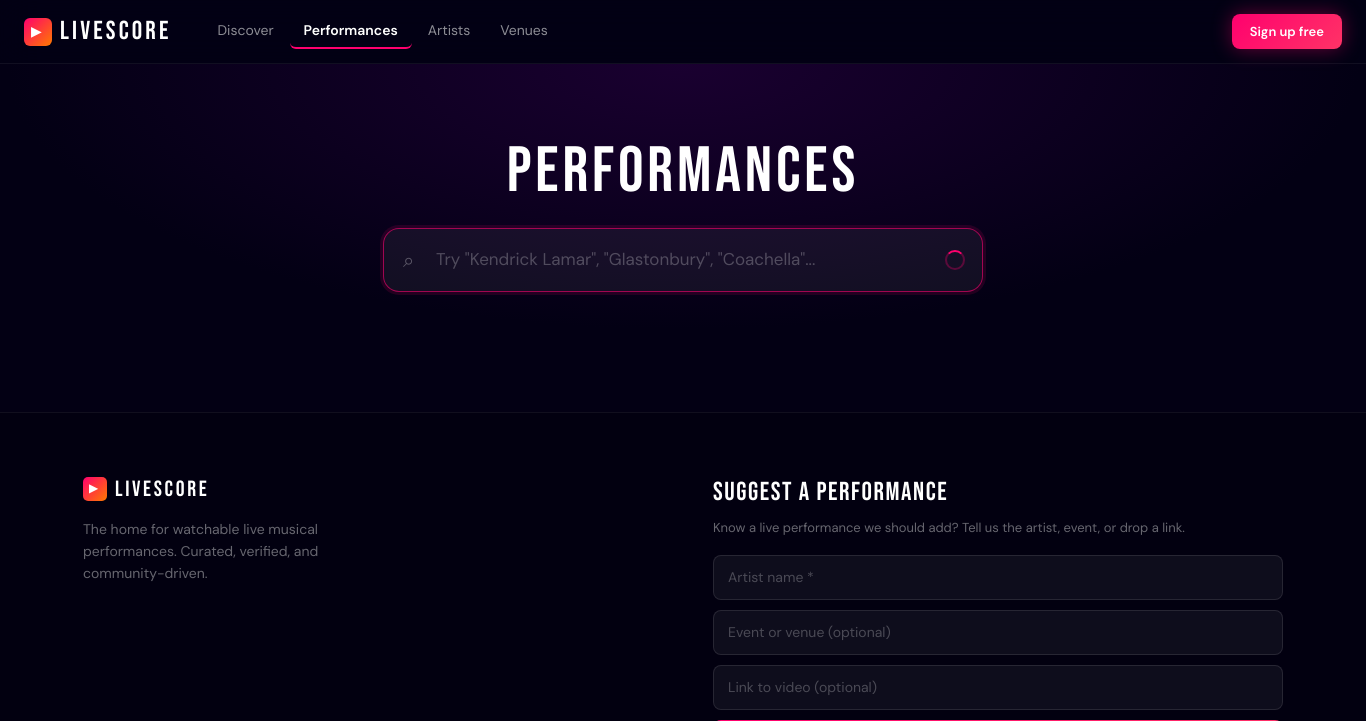
it: SearchPage — stale request cancellation › discards a slow in-flight response once a newer search supersedes it
Step 1. Type "fresh" into the field with placeholder "Try \"Kendrick Lamar\", \"Glastonbury\", \"Coachella\"..." → x=683, y=260, box [383, 228, 983, 292]
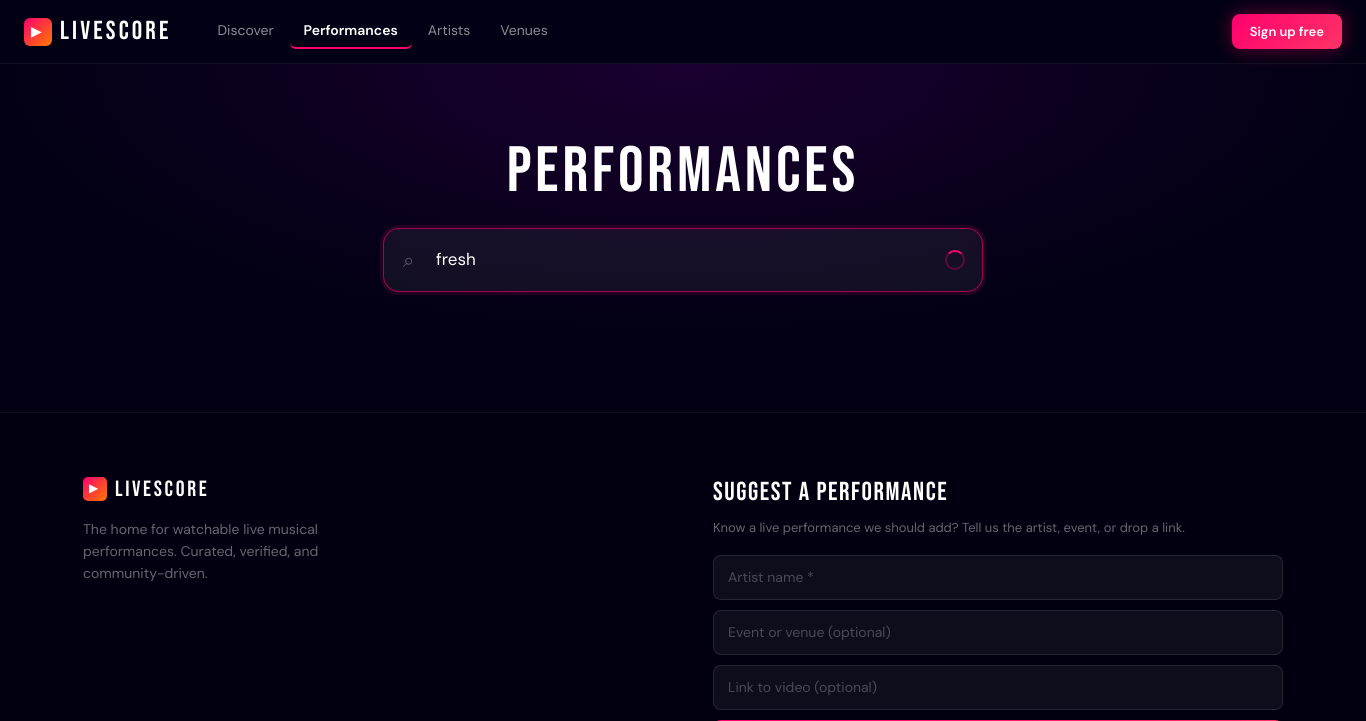
Step 2. Press Enter in the field with placeholder "Try \"Kendrick Lamar\", \"Glastonbury\", \"Coachella\"...", box [383, 228, 983, 292]
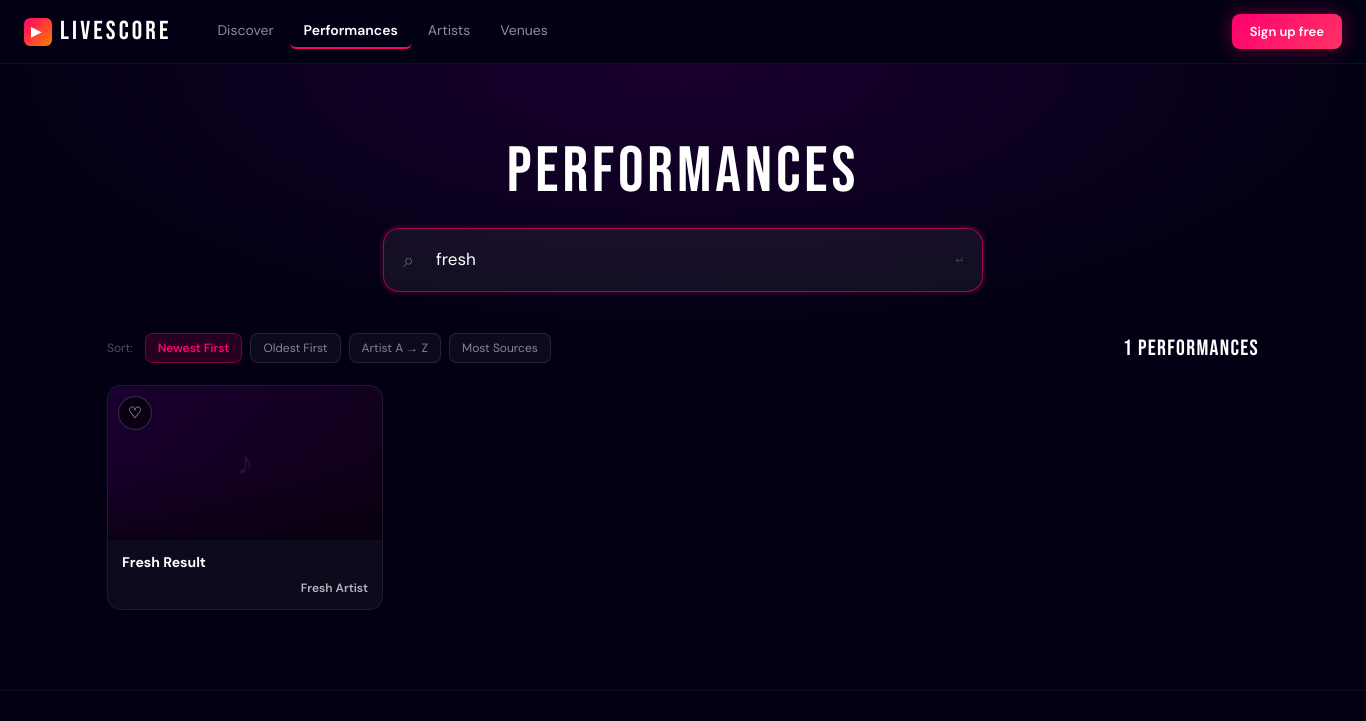
Check: the text "Fresh Result" is shown, box [122, 553, 206, 571]
